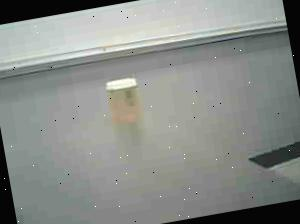Bottle B: (96, 70, 152, 134)
